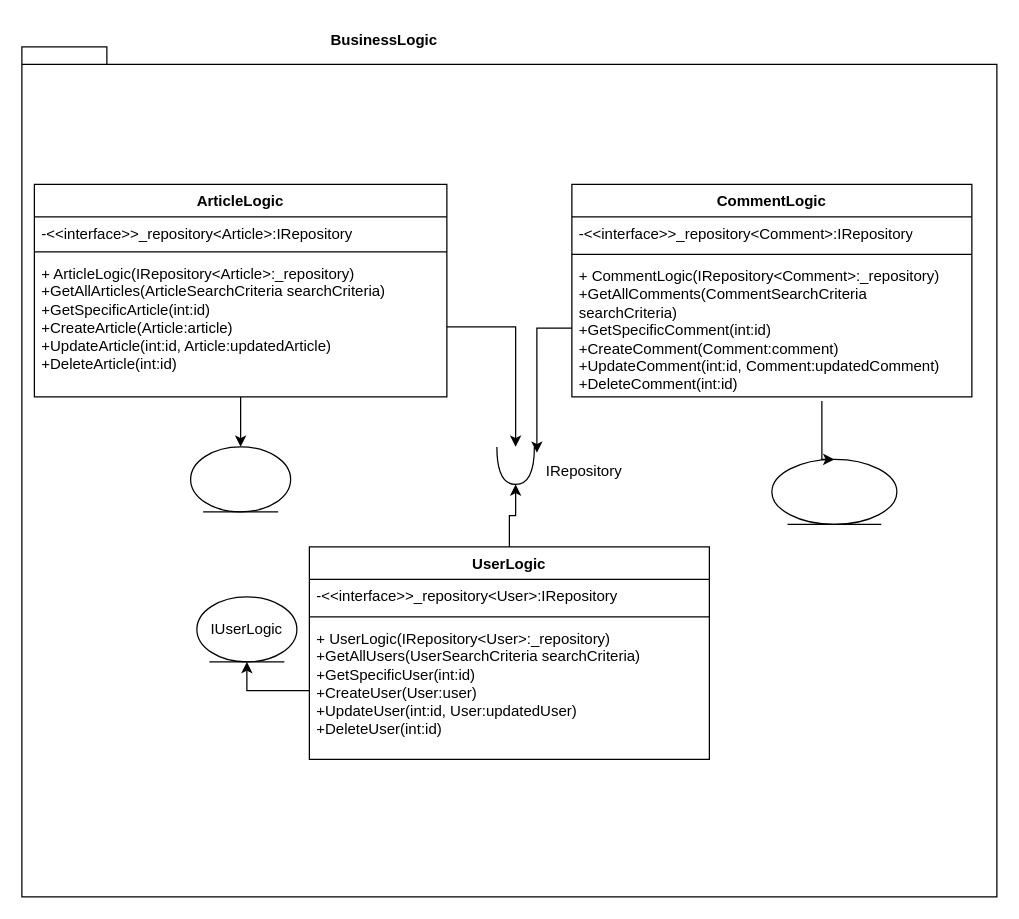
This 1019x919 diagram has some shape labels left out. Here are the shapes that lost their labels. From the top down, the centre of each, then its label:
(x=240, y=479): IArticleLogic
(x=834, y=491): ICommentLogic
